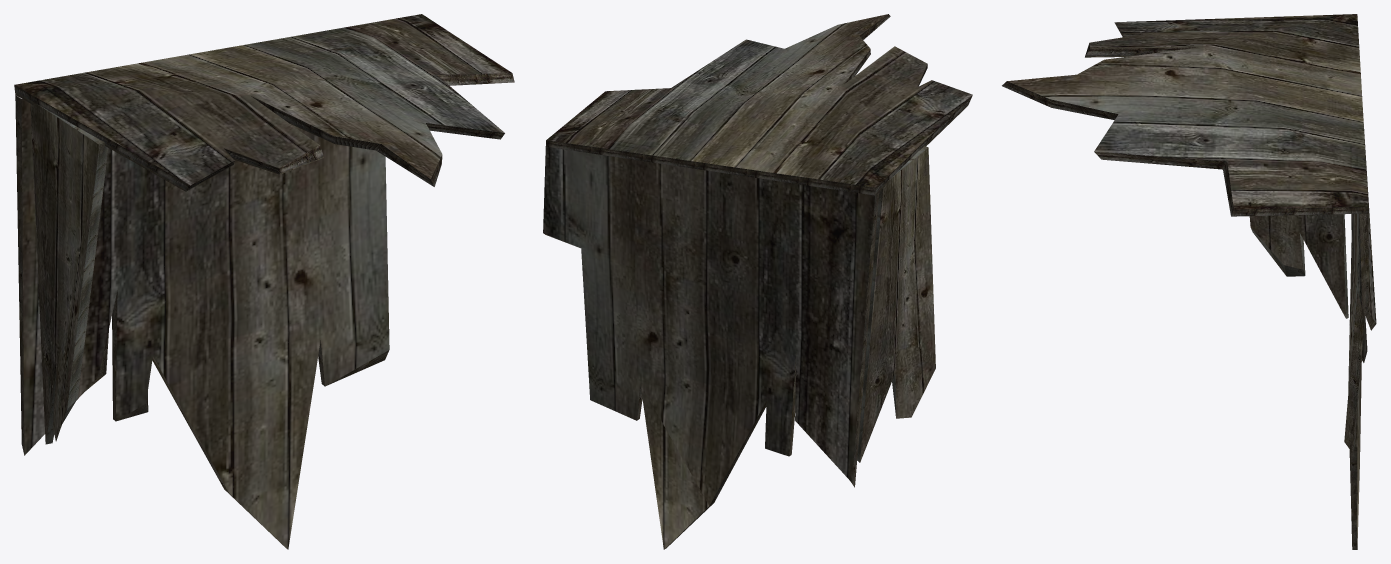
File: prop_destroyedcratecorner01.glb
The picture shows the model from 3 angles, left to right: view 1: azimuth 30°, elevation 25°; view 2: azimuth 150°, elevation 25°; view 3: azimuth 270°, elevation 25°; orthographic projection. The views are drawn at different scales.
Size of the model in its own units: 16.23 by 19.83 by 14.97.
Materials: 1 (1 with a texture image).
